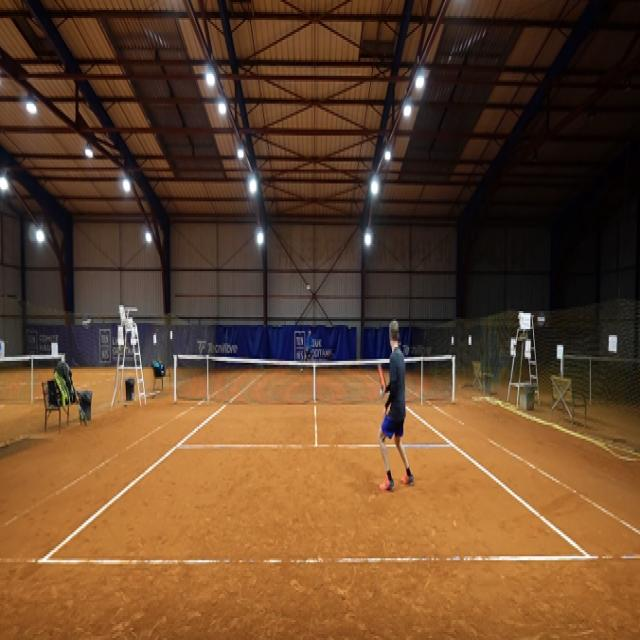ball: (307, 284, 310, 290)
